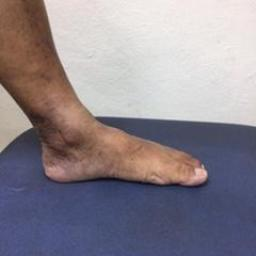Medial View -Left Foot-: (16, 103, 215, 207)
